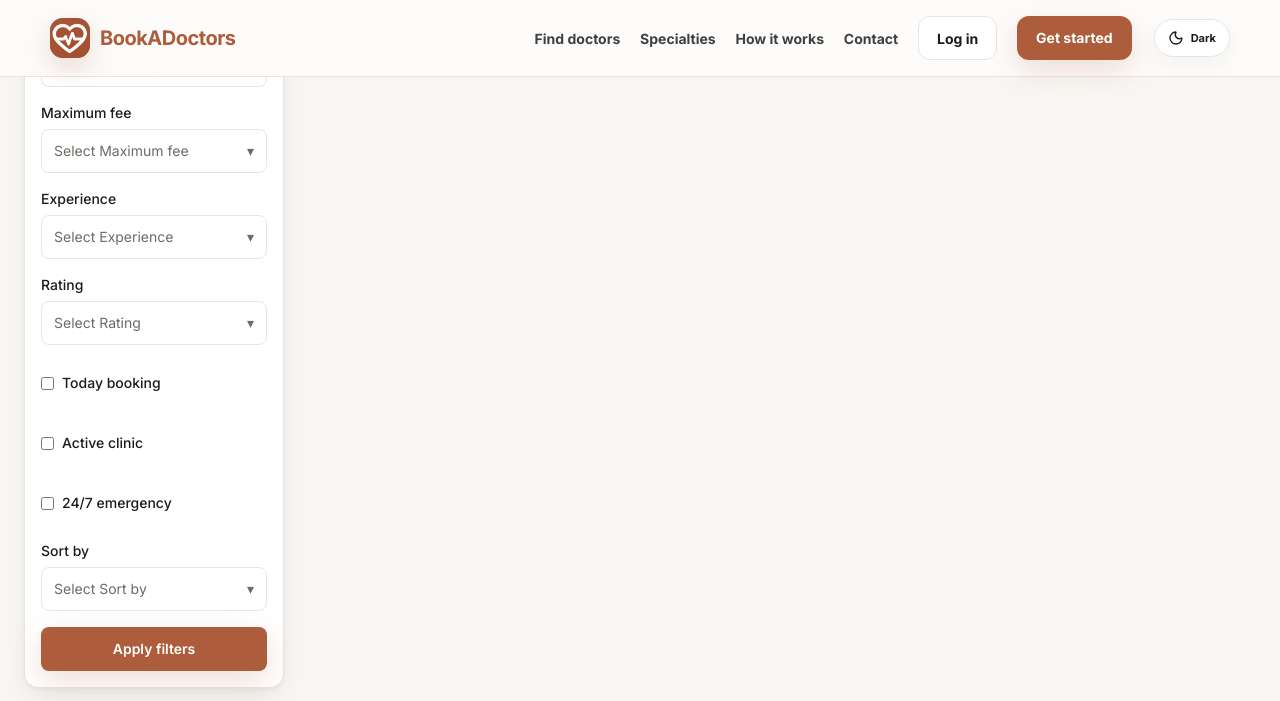
Test: SearchResults › lists every doctor by default and narrows by the "24/7 emergency" filter
The image size is (1280, 701).
(page scrolled)
Click the checkbox labelled "24/7 emergency": (48, 503) [41,496,54,510]
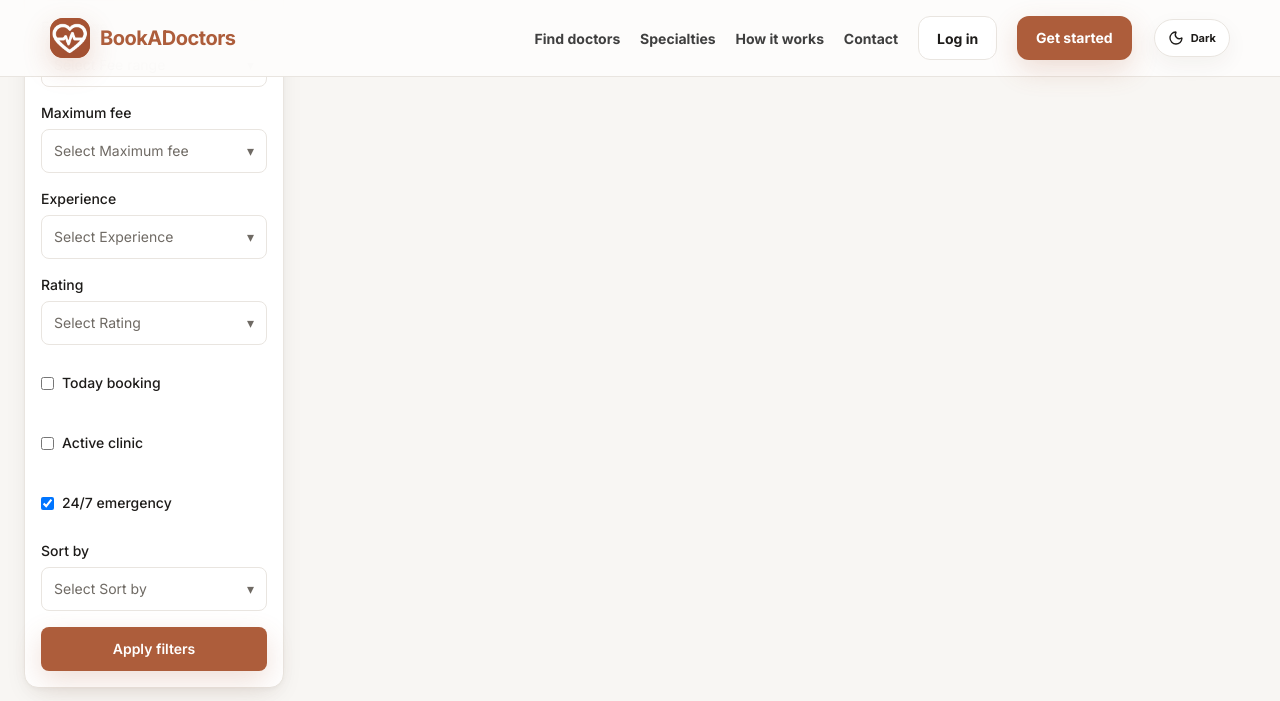
Click the button "Apply filters": (154, 649) [41,627,267,671]
(page scrolled)
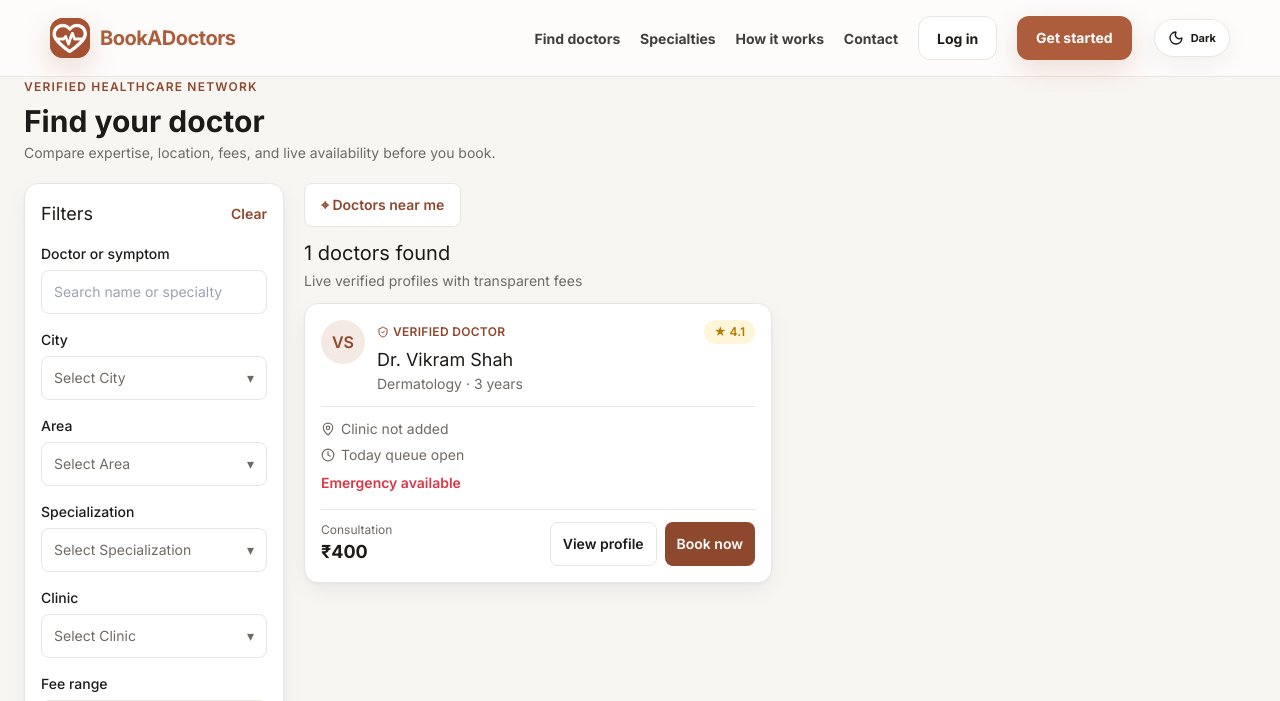
Expected: the heading "Dr. Vikram Shah" is shown, [377,346,523,374]
Now the heading "1 doctors found" is shown, box [304,241,450,265]
